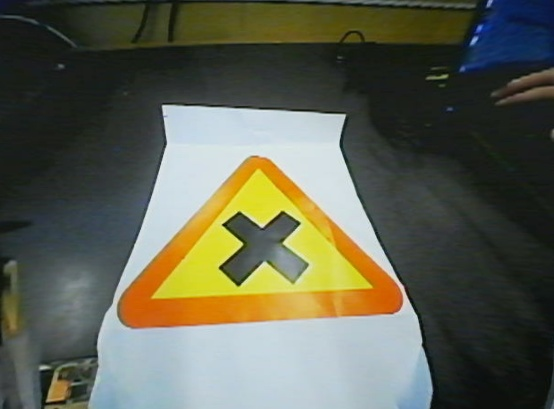junction: (121, 154, 417, 327)
